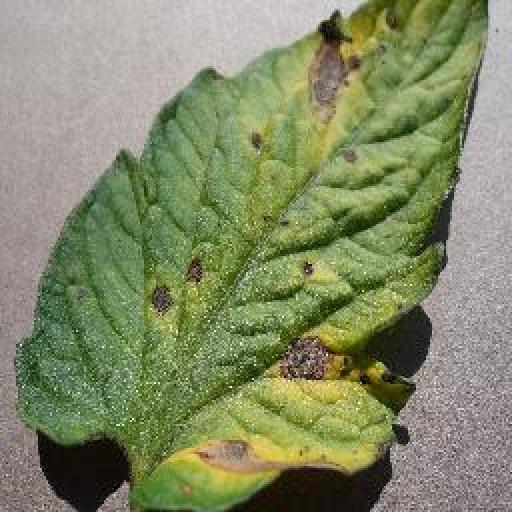disease_tomato: (19, 0, 488, 512)
